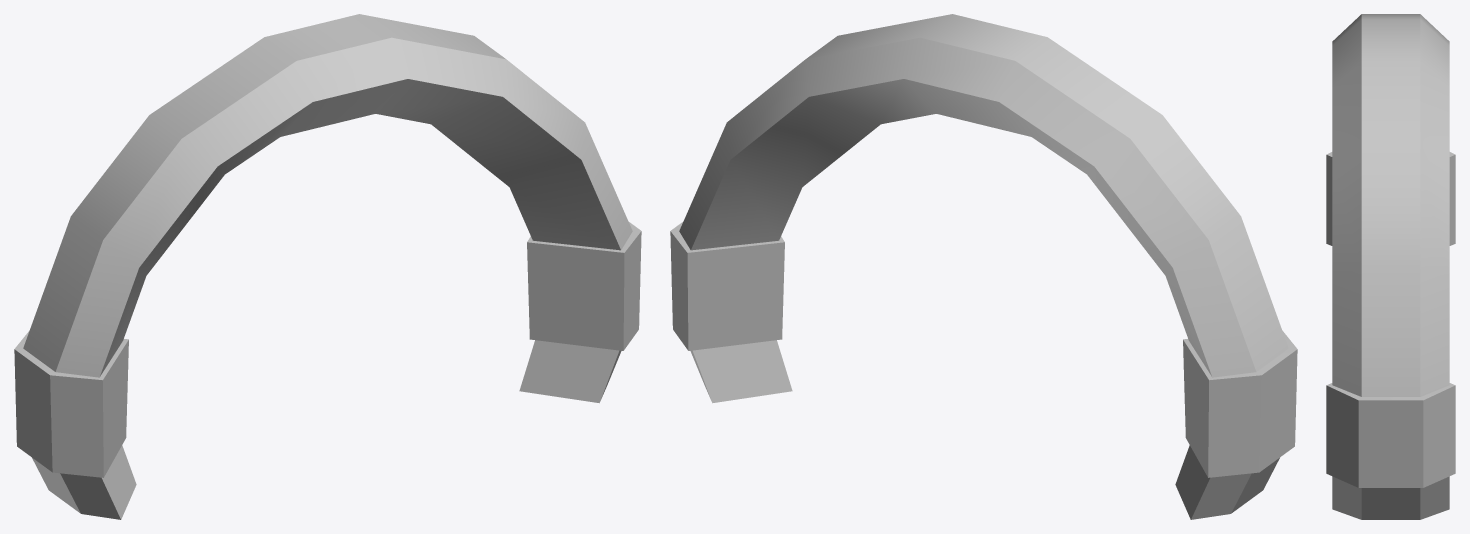
Rendered from Portal.fbx.
3 renders of one model, left to right at view 1: azimuth 30°, elevation 25°; view 2: azimuth 150°, elevation 25°; view 3: azimuth 270°, elevation 25°, orthographic. The views are drawn at different scales.
Parts seen in each view (by area): view 1: Portal; view 2: Portal; view 3: Portal.
Boxes of the visible parts, <box> form: Portal: <box>14,14,641,519</box>; Portal: <box>670,14,1297,519</box>; Portal: <box>1326,14,1455,519</box>.
Bounding box in the file's own units: 4.22 × 2.73 × 0.8821.
Materials: 1 (1 with a texture image).
